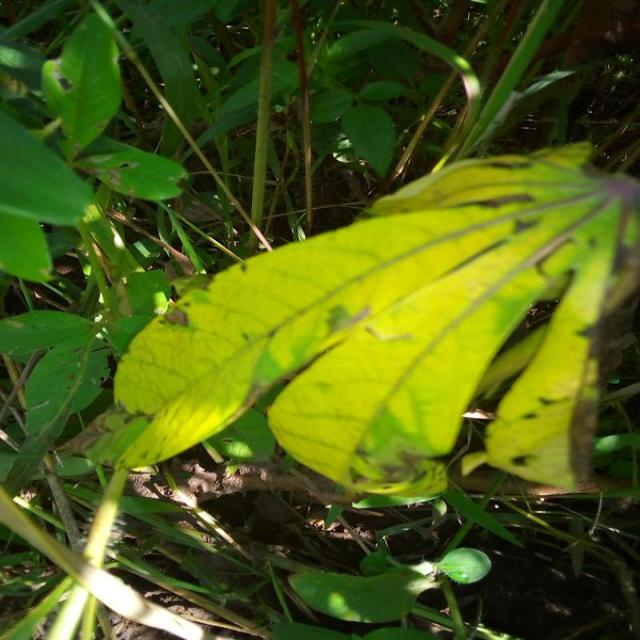cassava leaf: (111, 138, 638, 506)
